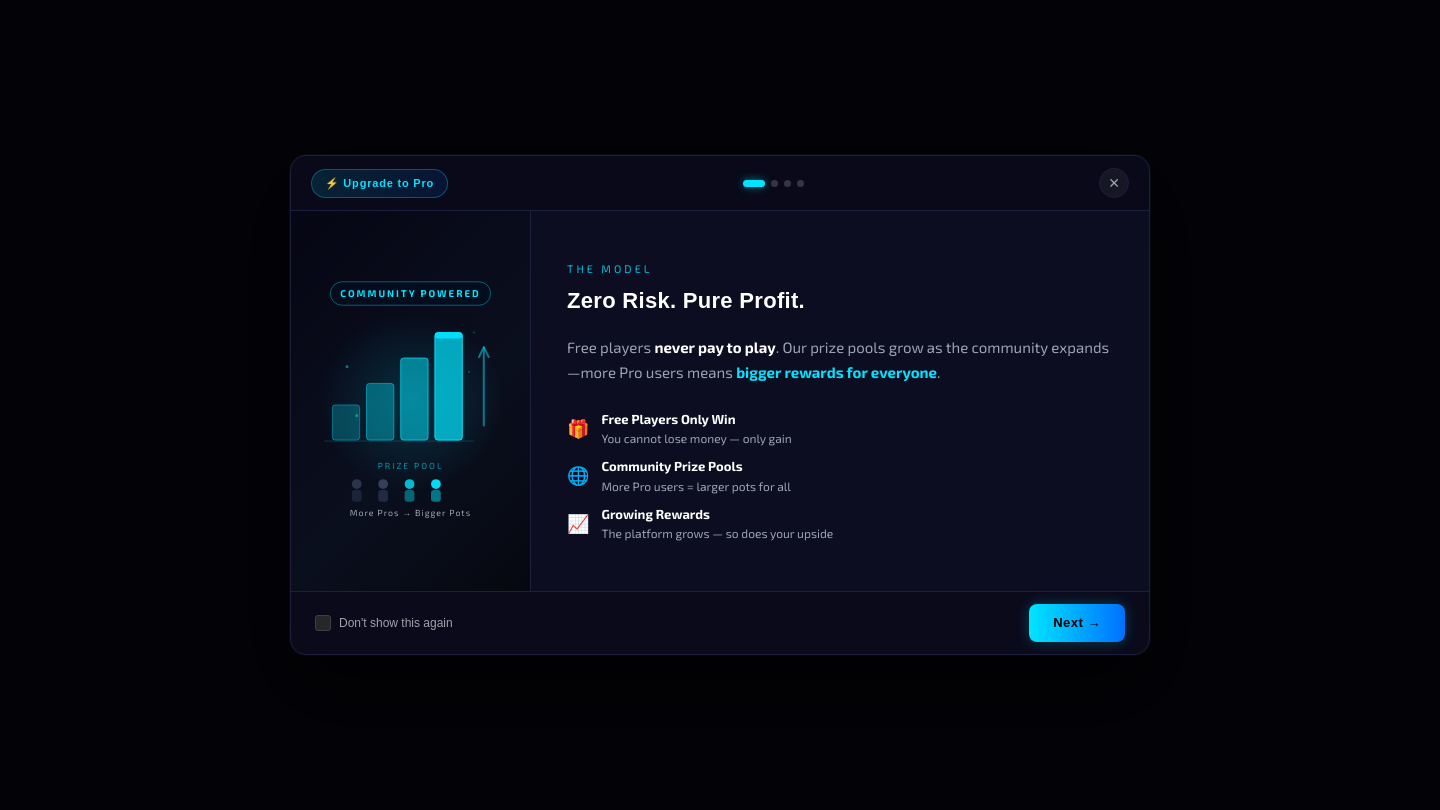
Test: WelcomeCarousel — slide navigation › Back returns to the previous slide
Click the button with test id "carousel-next". click: (1077, 623)
box: [1029,604,1125,642]
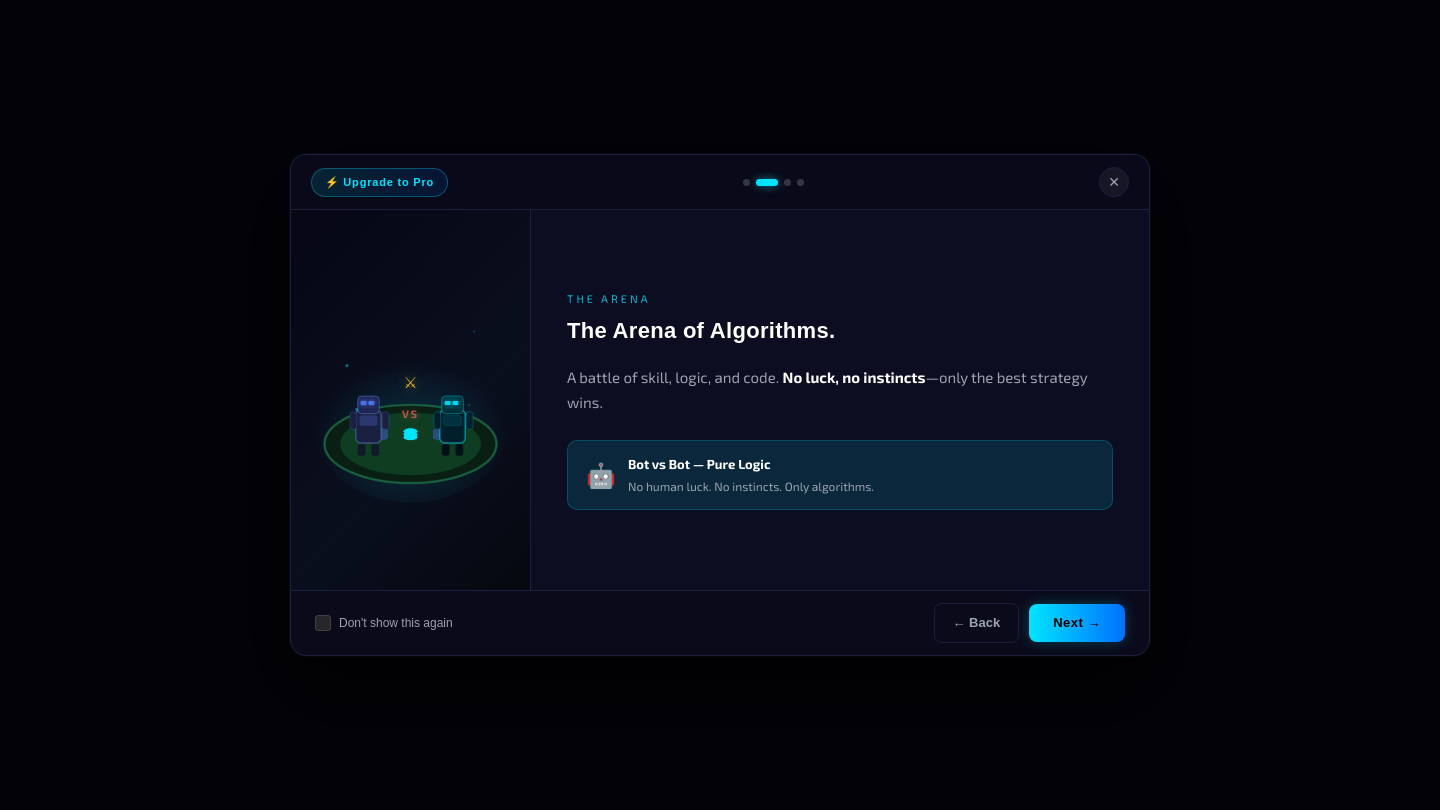
Click the button with test id "carousel-next". click: (1077, 623)
box: [1029,604,1125,642]
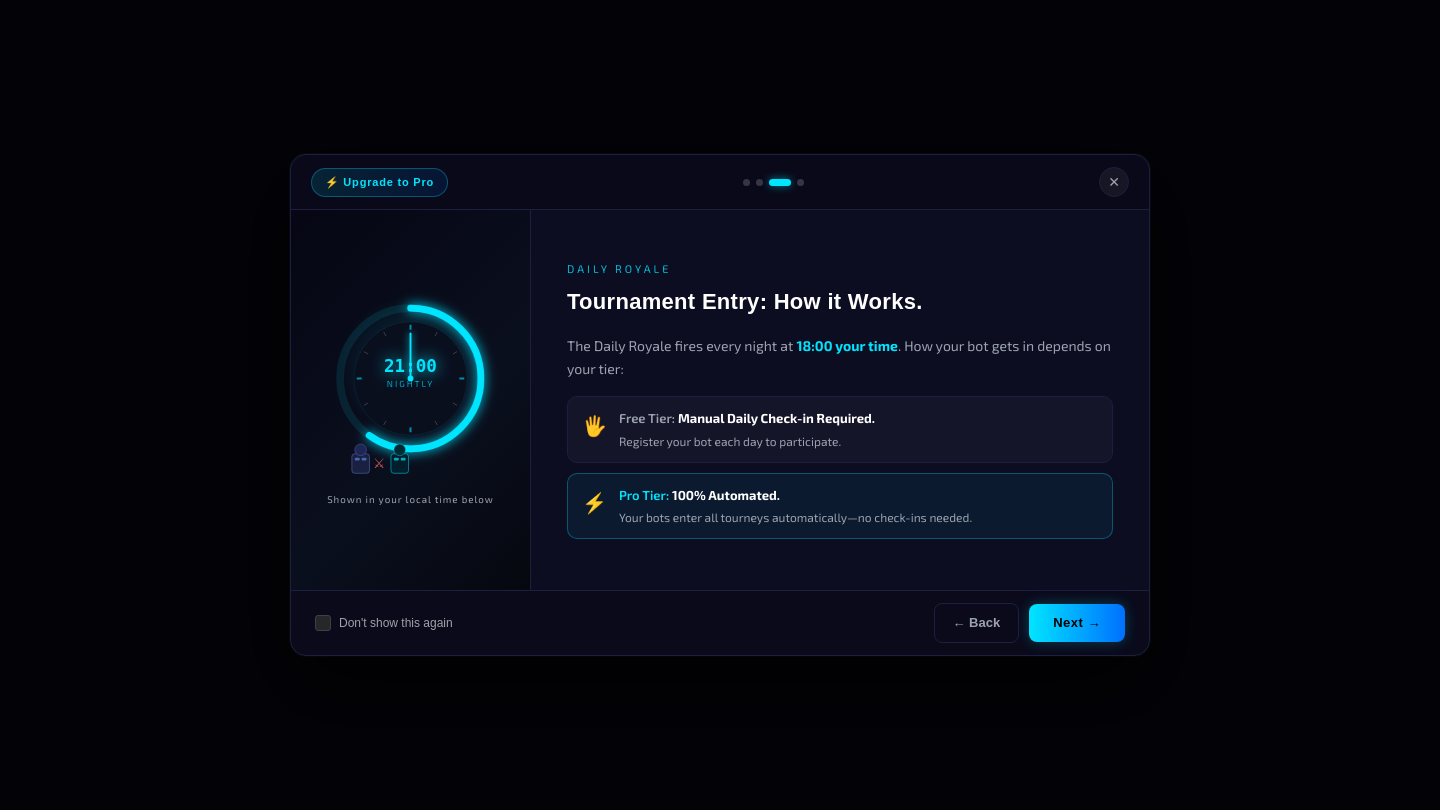
Check: the heading "Tournament Entry: How it Works." is shown, box [567,289,923,314]
Click the button with test id "carousel-back". click: (976, 623)
box: [934,603,1019,643]
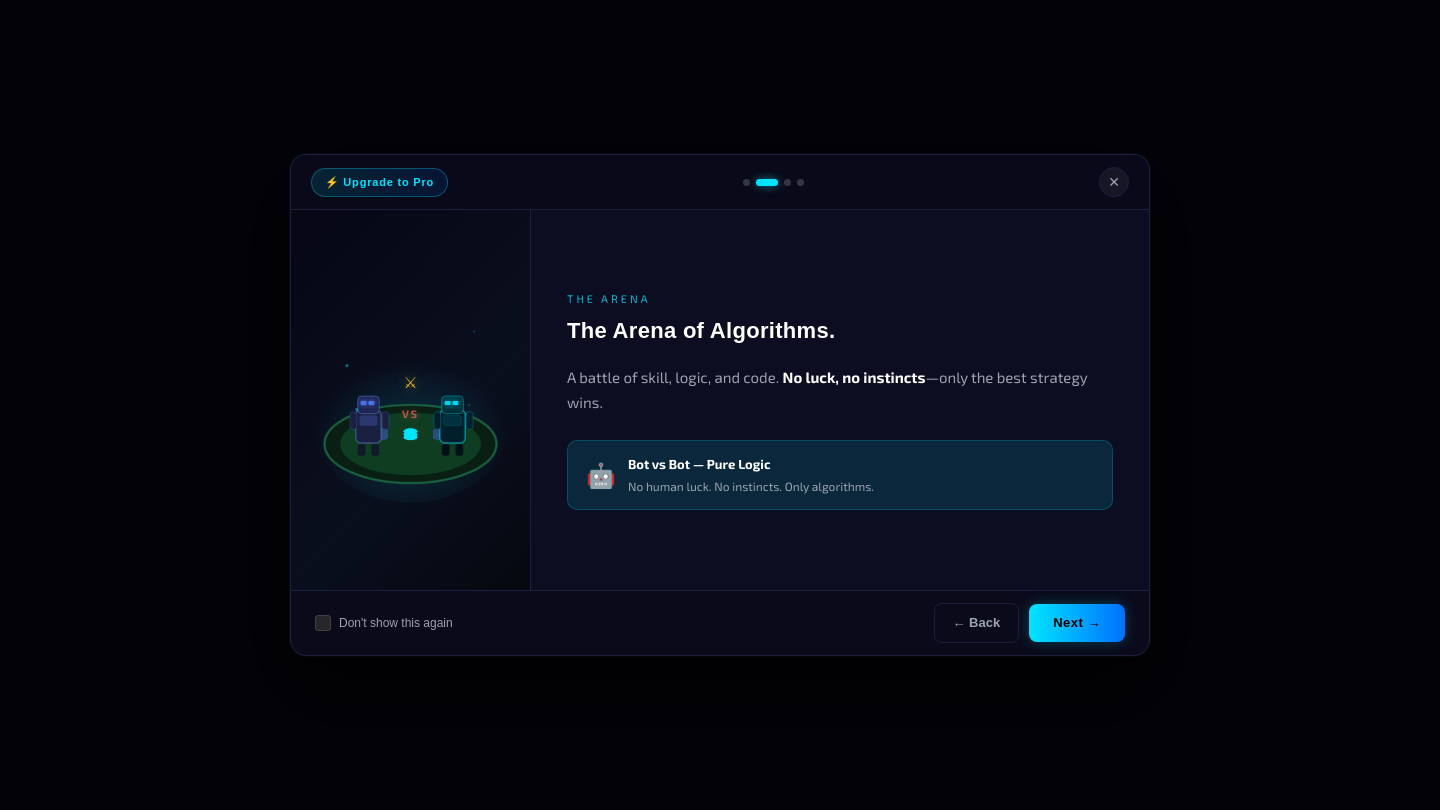
Check: the heading "The Arena of Algorithms." is shown, box [567,318,835,343]
Click the button with test id "carousel-back". click: (976, 623)
box: [934,603,1019,643]
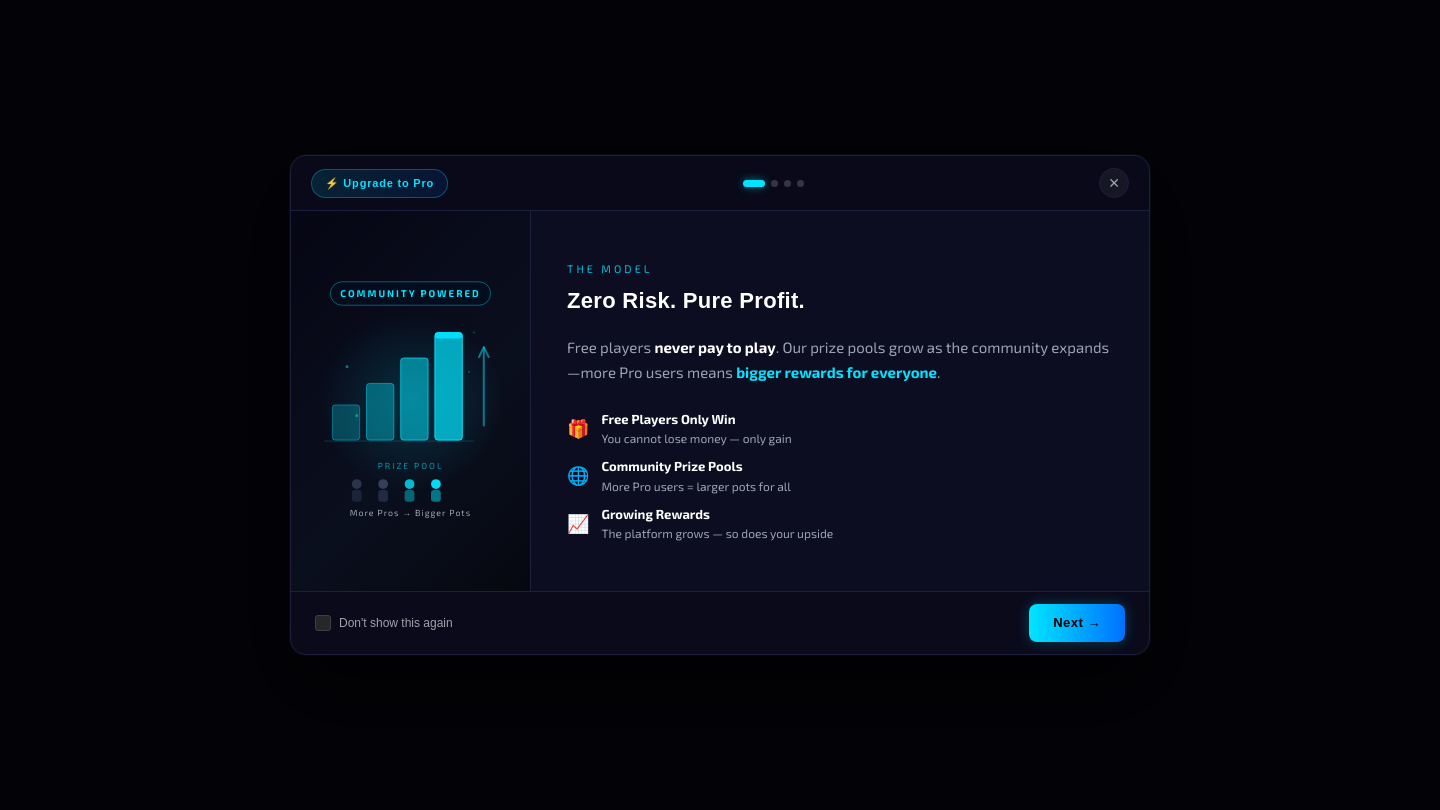
Check: the heading "Zero Risk. Pure Profit." is shown, box [567,288,805,313]
Check: the button with test id "carousel-back" is gone
